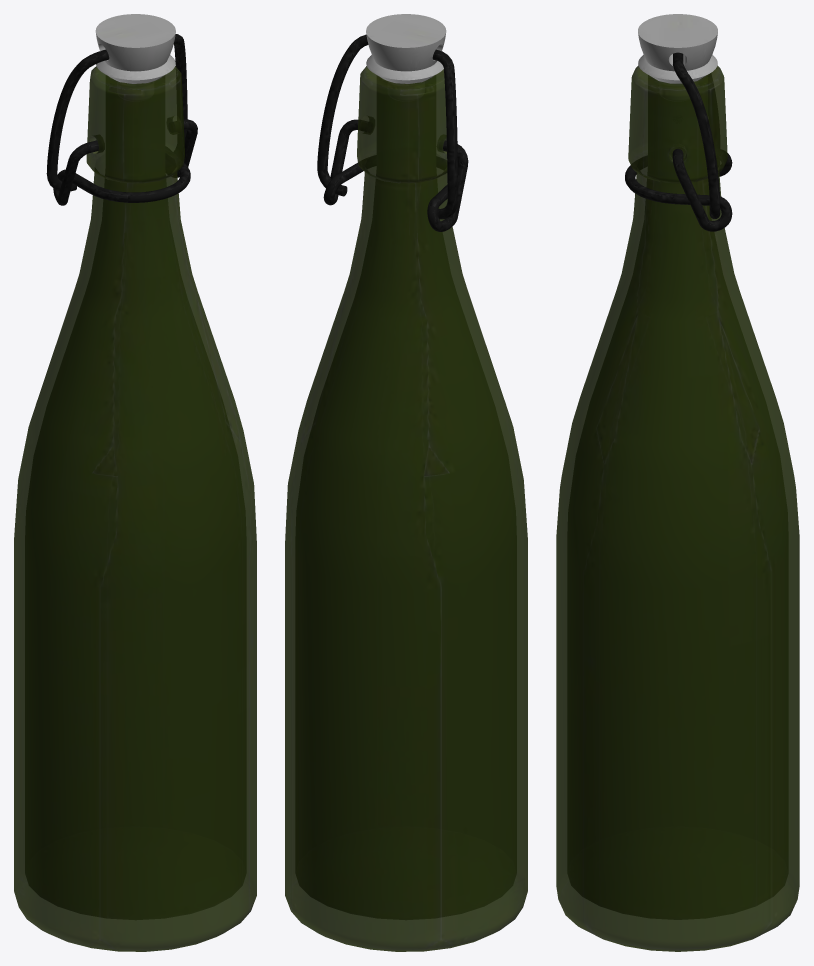
Rendered from coti_glass_bottle.glb.
The picture shows the model from 3 angles, left to right: view 1: azimuth 30°, elevation 25°; view 2: azimuth 150°, elevation 25°; view 3: azimuth 270°, elevation 25°; orthographic projection.
Visible parts, largest first — view 1: Object_2; view 2: Object_2; view 3: Object_2.
Part boxes in pixels (x1,y1,x2,y2): Object_2: (14, 14, 256, 951); Object_2: (285, 14, 527, 951); Object_2: (556, 14, 799, 951).
Bounding box in the file's own units: 0.0753 × 0.3 × 0.0755.
1 material, 1 textured.
